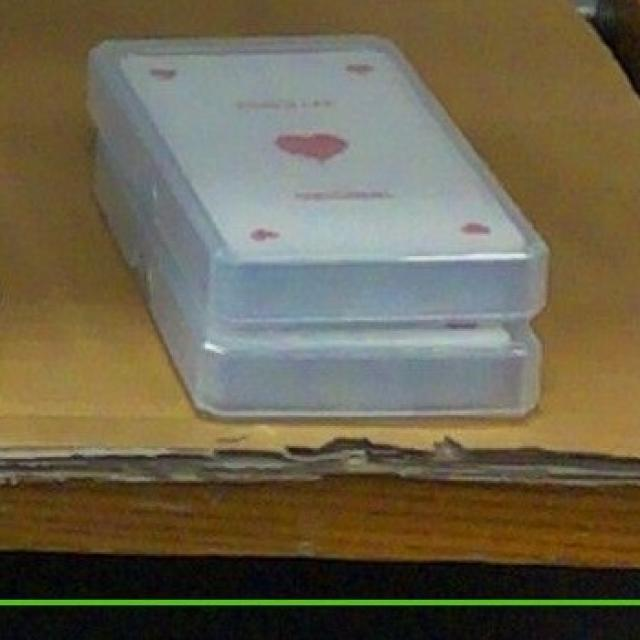Jasskarte: (85, 32, 550, 325), (94, 128, 540, 419)
